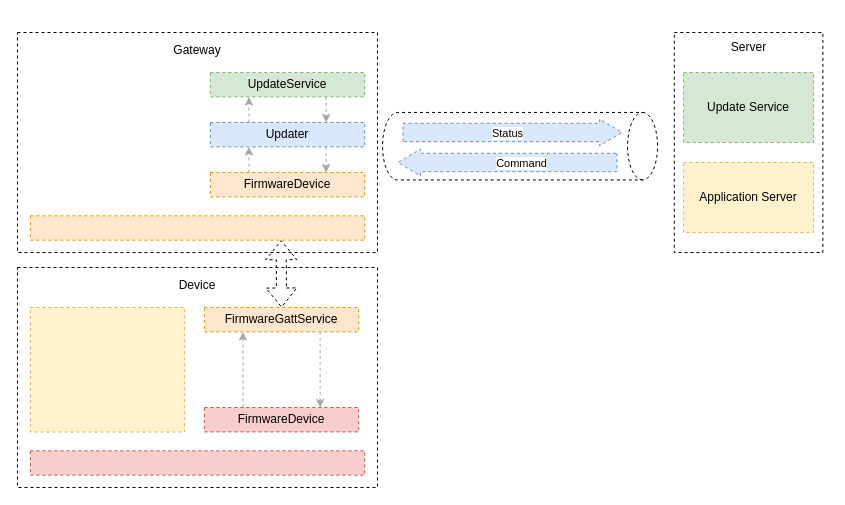
This 845x505 diagram has some shape labels left out. Each missing label, with the centre of its shape:
"Application" belongs at point 107,369.
"BlueZ" belongs at point 197,227.
"Bootloader" belongs at point 197,462.
"Transport" belongs at point 520,146.
